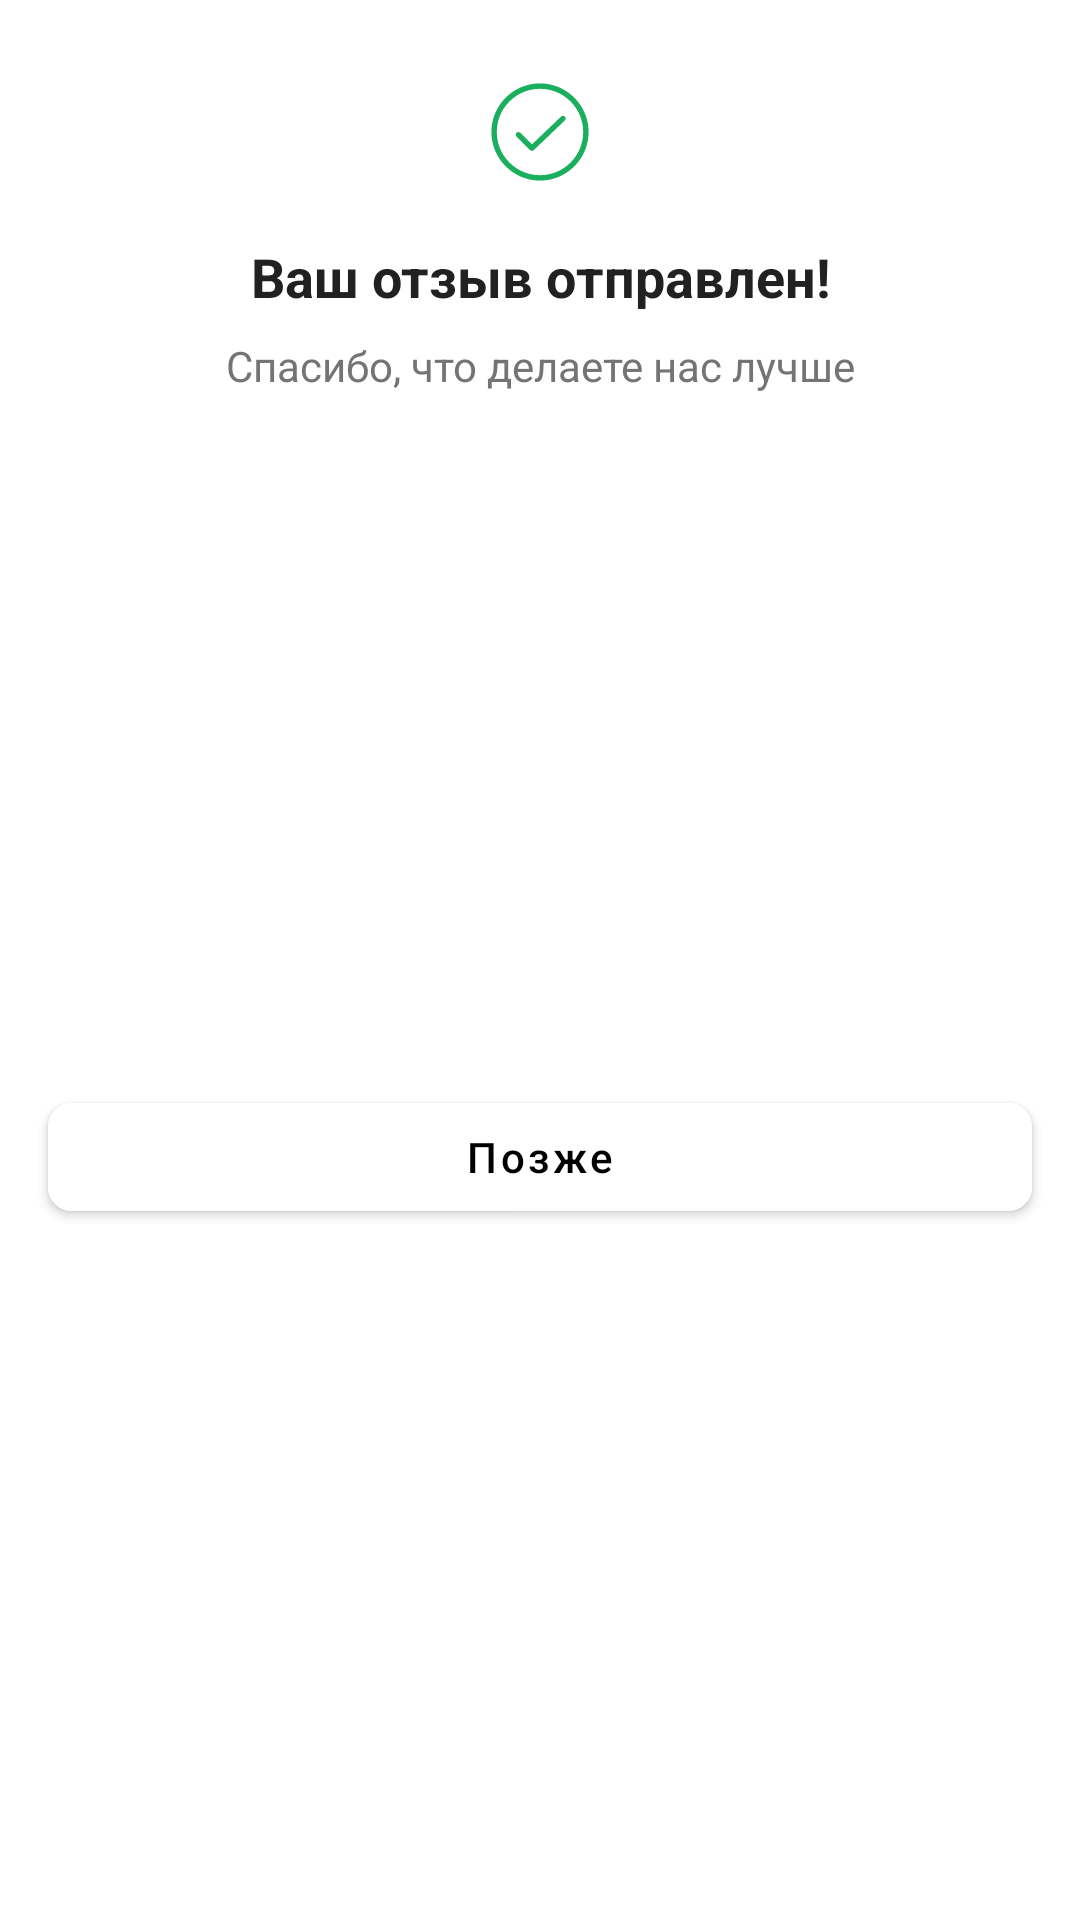

Point at icon controls on the screen. Image size 1080 × 1920, points as point (x, y).
success: point (540, 132)
